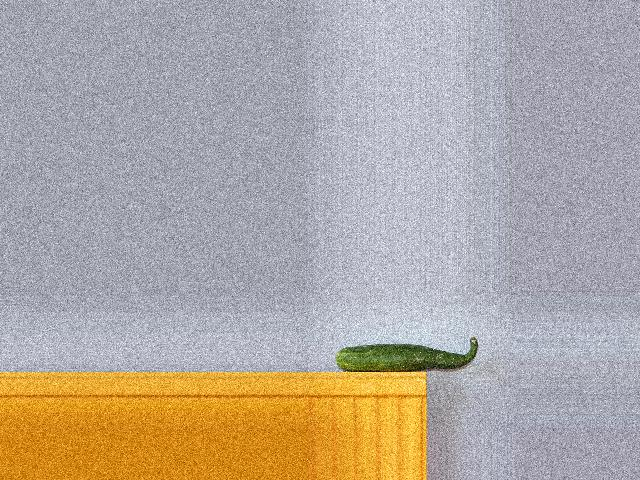cucumber: (336, 336, 478, 372)
